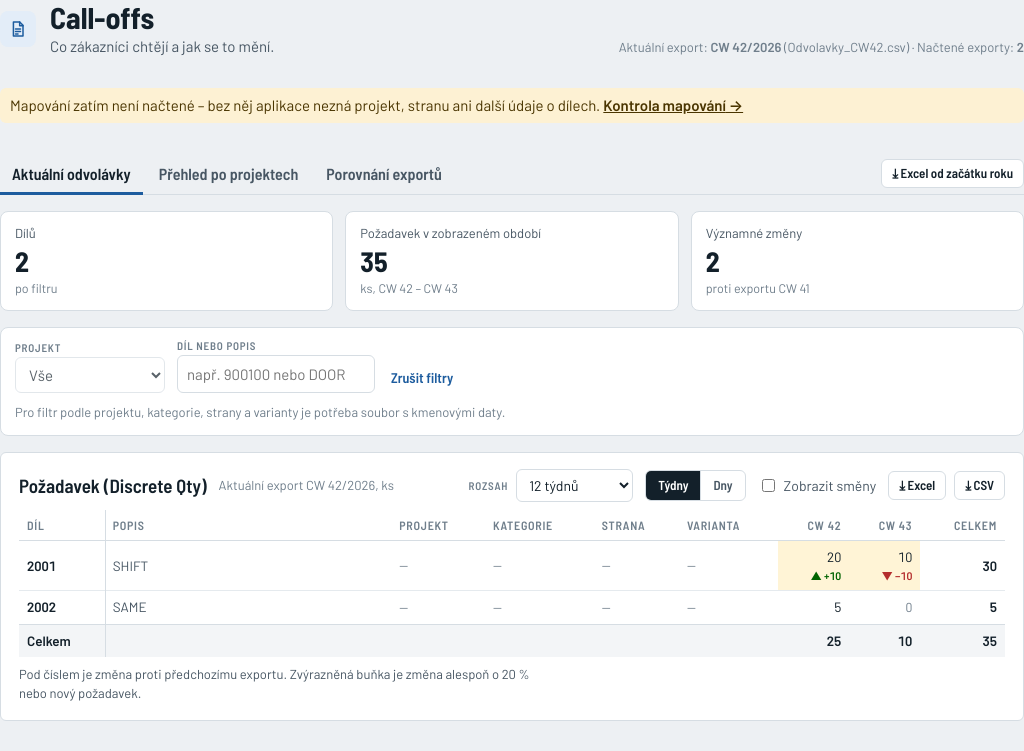
it: CallOffsPage › jen změněné díly: v součtu skryje díl, jehož změny v týdnech se vyrovnají
Click the tab "Porovnání exportů" at (384, 174), box [314,154,454,195]
(page scrolled)
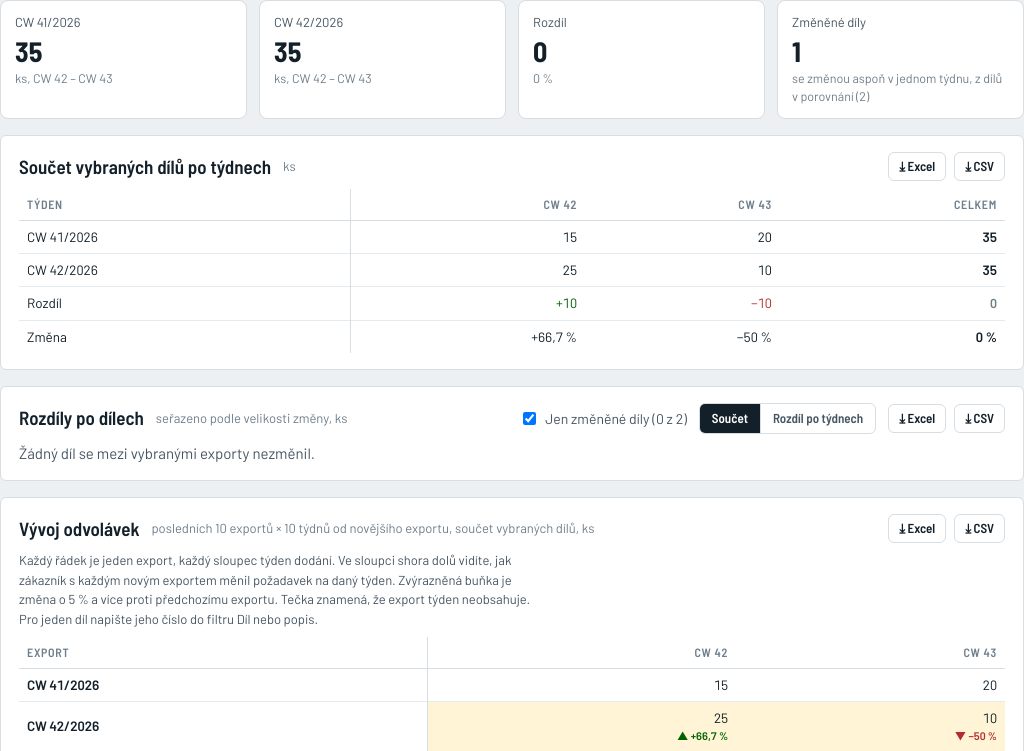
Expected: the text "Žádný díl se mezi vybranými exporty nezměnil." is shown, [19,444,315,462]
Expected: the text "Jen změněné díly (0 z 2)" is shown, [519,408,687,429]
Click the button "Rozdíl po týdnech" at (818, 418), box [760,404,875,433]
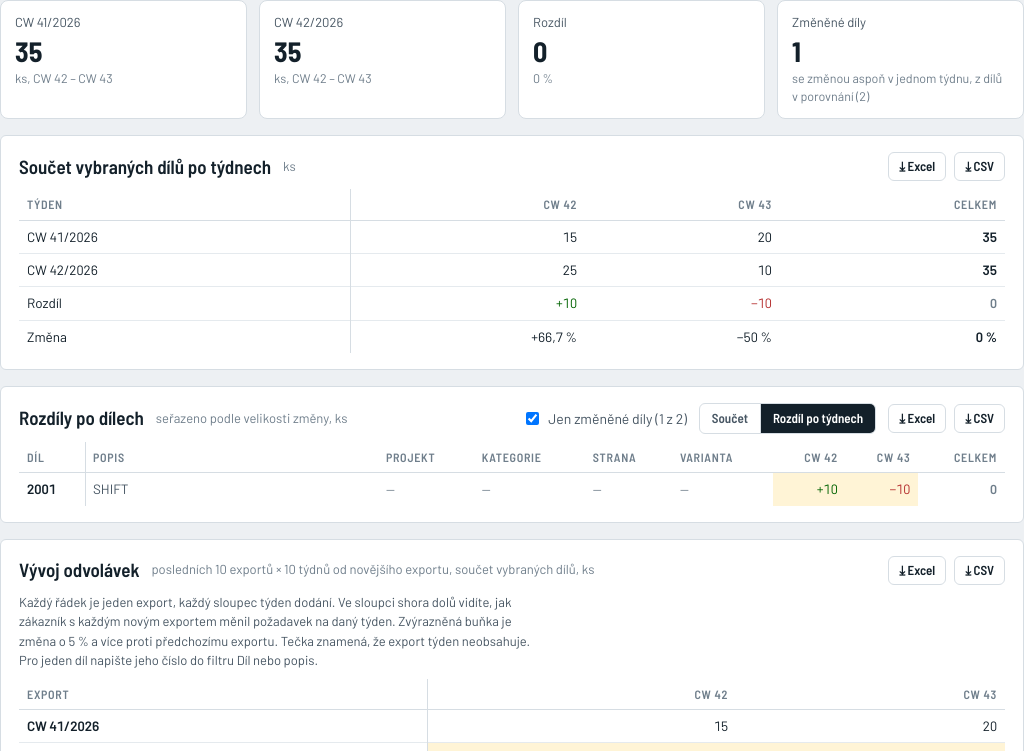
Expected: the text "2002" is not shown
Expected: the text "2001" is shown, [27,480,56,497]
